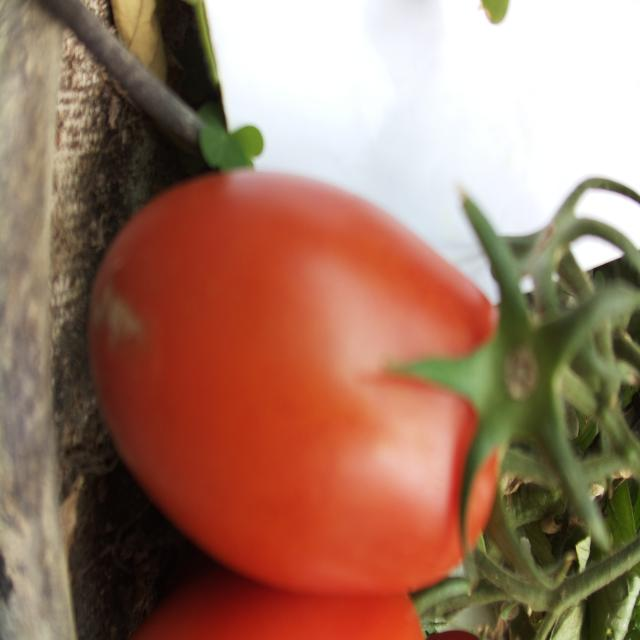kirmizi: (86, 170, 533, 640)
